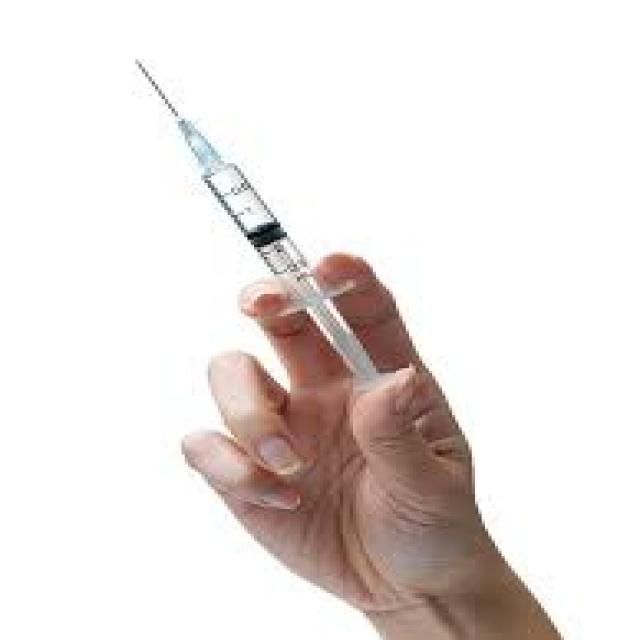syringe: (129, 54, 396, 393)
